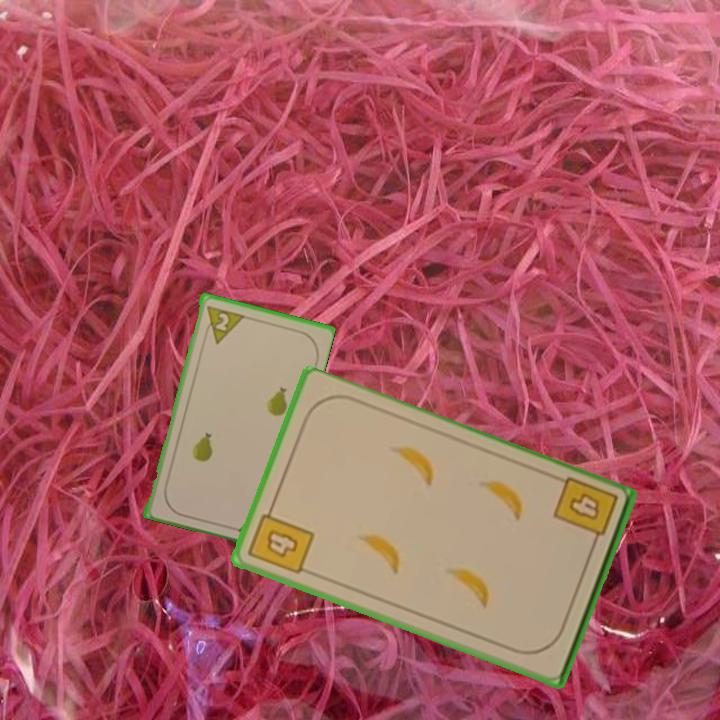2p: (201, 302, 245, 346)
4b: (244, 501, 318, 578), (550, 474, 621, 552)
